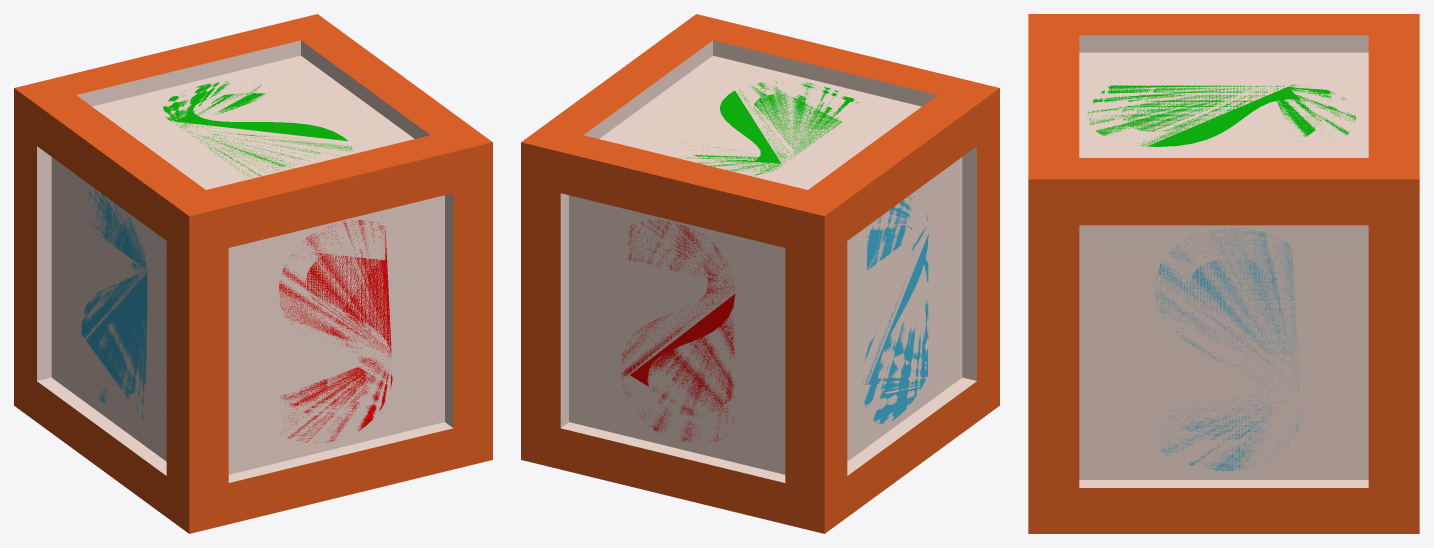
The model's file is Prop_KidsCube_S.fbx.
The picture shows the model from 3 angles, left to right: view 1: azimuth 30°, elevation 25°; view 2: azimuth 150°, elevation 25°; view 3: azimuth 270°, elevation 25°; orthographic projection. The views are drawn at different scales.
Parts seen in each view (by area): view 1: Prop_KidsCube_S; view 2: Prop_KidsCube_S; view 3: Prop_KidsCube_S.
Boxes of the visible parts, x1,y1,x2,y2 form: Prop_KidsCube_S: [14, 14, 492, 533]; Prop_KidsCube_S: [521, 14, 999, 533]; Prop_KidsCube_S: [1028, 14, 1419, 533].
Size of the model in its own units: 20.93 by 20.93 by 20.93.
